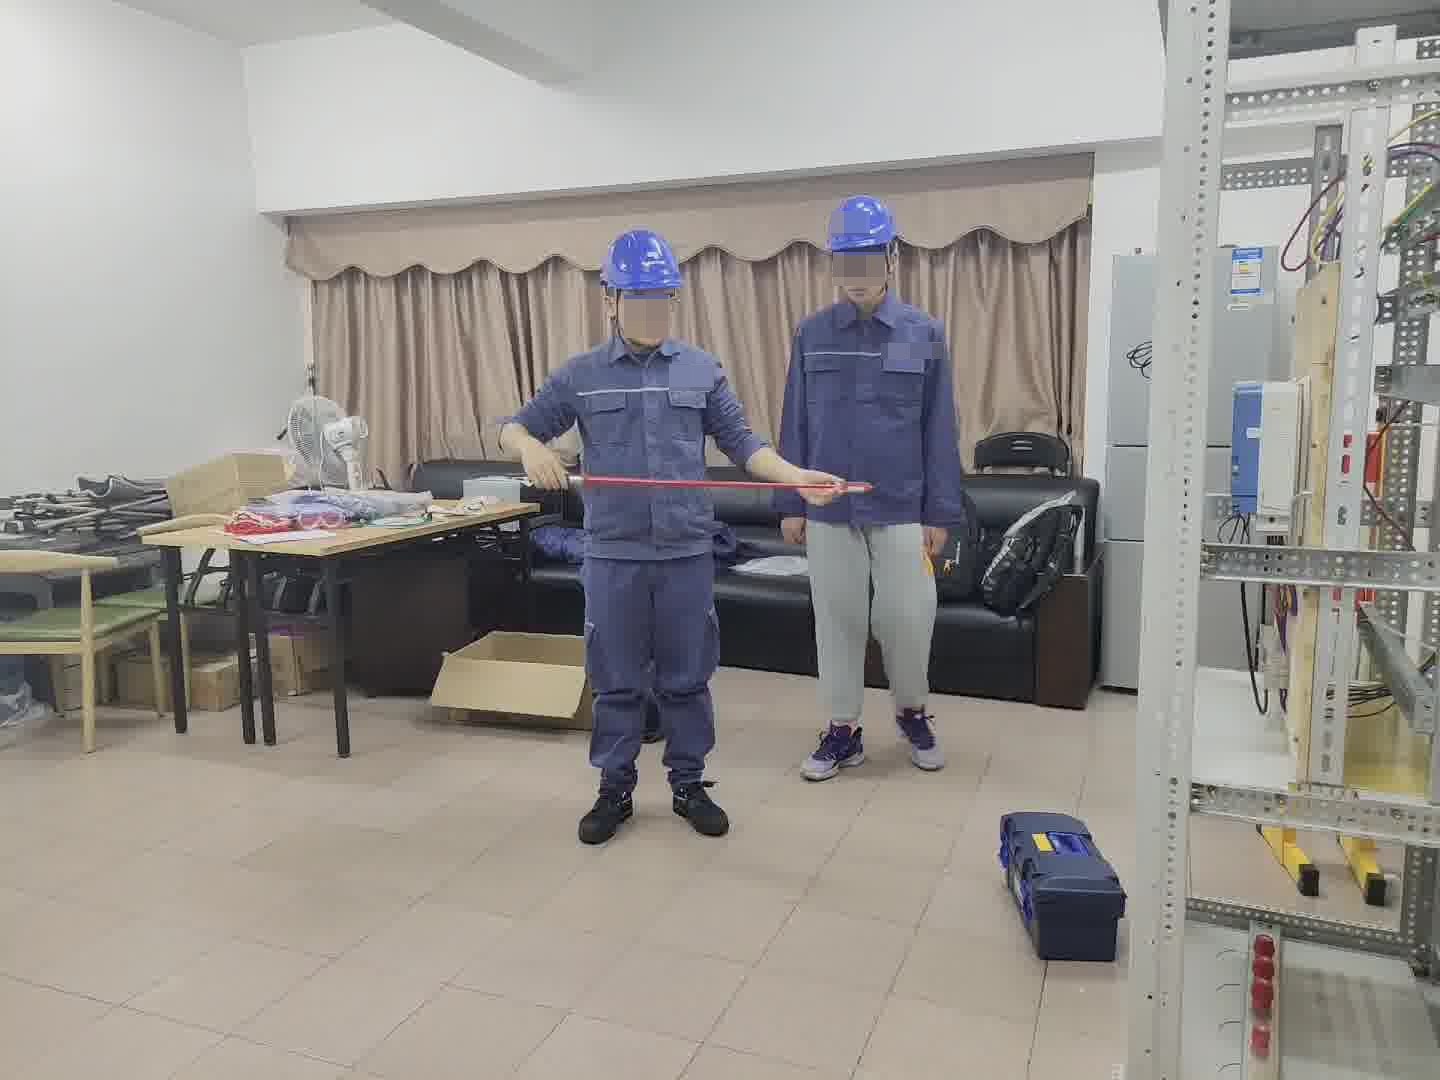downcloth: (806, 517, 945, 731)
downsuit: (582, 557, 723, 777)
halt: (596, 225, 688, 339), (824, 194, 902, 310)
hand: (523, 441, 570, 496), (796, 469, 847, 518), (924, 519, 950, 559), (779, 515, 807, 549)
inear: (604, 282, 631, 344)
person: (504, 224, 760, 847), (779, 191, 971, 781)
testrod: (566, 465, 877, 519)
upsuit: (502, 329, 767, 552), (776, 292, 971, 529)
wronghold: (731, 455, 879, 506)
wrongtop: (742, 432, 850, 515), (500, 408, 575, 493)
